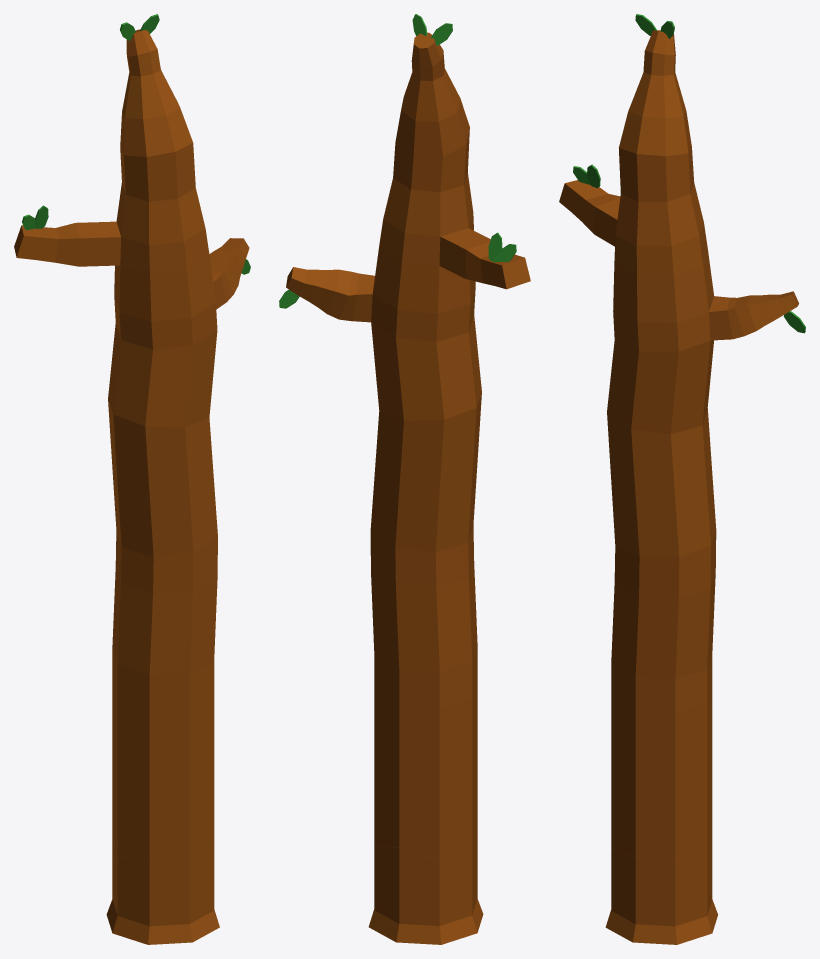
File: ArbolesYTronco.fbx
3 renders of one model, left to right at view 1: azimuth 30°, elevation 25°; view 2: azimuth 150°, elevation 25°; view 3: azimuth 330°, elevation 25°, orthographic.
Visible parts, largest first — view 1: Cylinder.001, Cylinder.006; view 2: Cylinder.001, Cylinder.006; view 3: Cylinder.001, Cylinder.006.
Part boxes in pixels (x1=…): Cylinder.001: x1=14, y1=14, x2=250, y2=862; Cylinder.006: x1=106, y1=836, x2=219, y2=944; Cylinder.001: x1=279, y1=14, x2=530, y2=861; Cylinder.006: x1=368, y1=834, x2=483, y2=944; Cylinder.001: x1=559, y1=14, x2=805, y2=863; Cylinder.006: x1=605, y1=837, x2=717, y2=944.
Size of the model in its own units: 528 by 1885 by 244.
